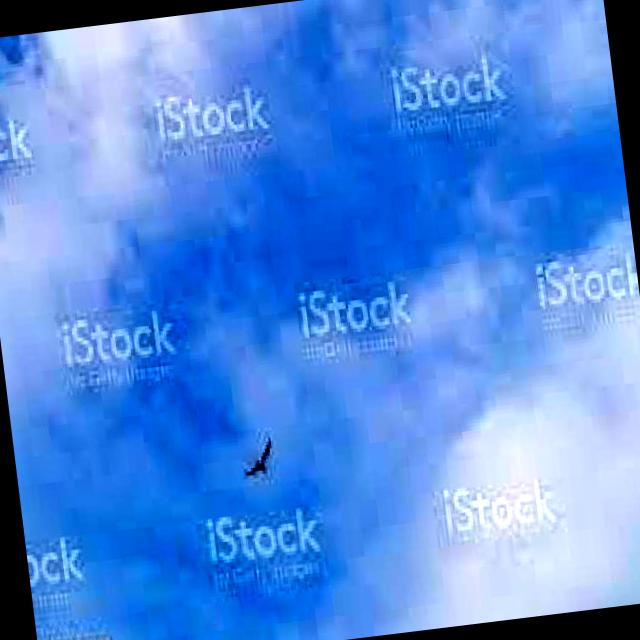bird: (241, 438, 280, 487)
